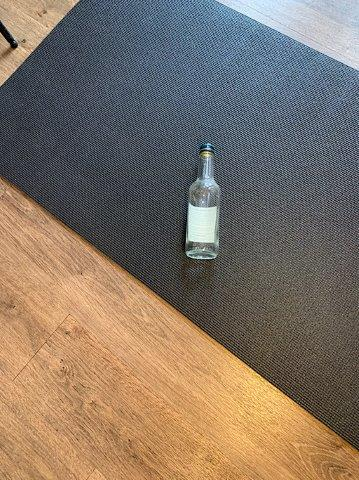botolkaca: (187, 145, 219, 258)
